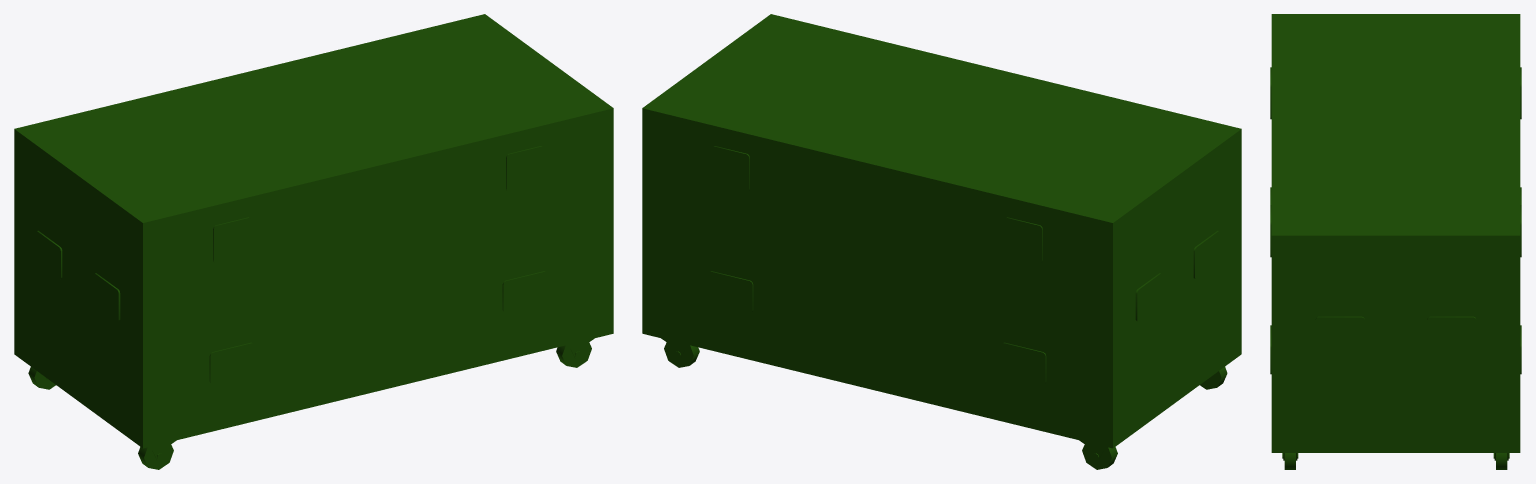
The model's file is FlightCase01.fbx.
3 views of the same model, side by side, from view 1: azimuth 30°, elevation 25°; view 2: azimuth 150°, elevation 25°; view 3: azimuth 270°, elevation 25° (orthographic). The views are drawn at different scales.
Visible parts, largest first — view 1: FlightCase01, FlightCase01_Wheel_1, FlightCase01_Wheel_3; view 2: FlightCase01, FlightCase01_Wheel_2, FlightCase01_Wheel_4; view 3: FlightCase01.
Part boxes in pixels (x1,y1,x2,y2): FlightCase01: [14, 14, 613, 448]; FlightCase01_Wheel_1: [138, 440, 176, 469]; FlightCase01_Wheel_3: [556, 338, 594, 367]; FlightCase01: [642, 14, 1241, 448]; FlightCase01_Wheel_2: [1079, 440, 1117, 469]; FlightCase01_Wheel_4: [661, 338, 699, 367]; FlightCase01: [1270, 14, 1521, 452].
Size of the model in its own units: 1.01 by 0.5221 by 0.4789.
